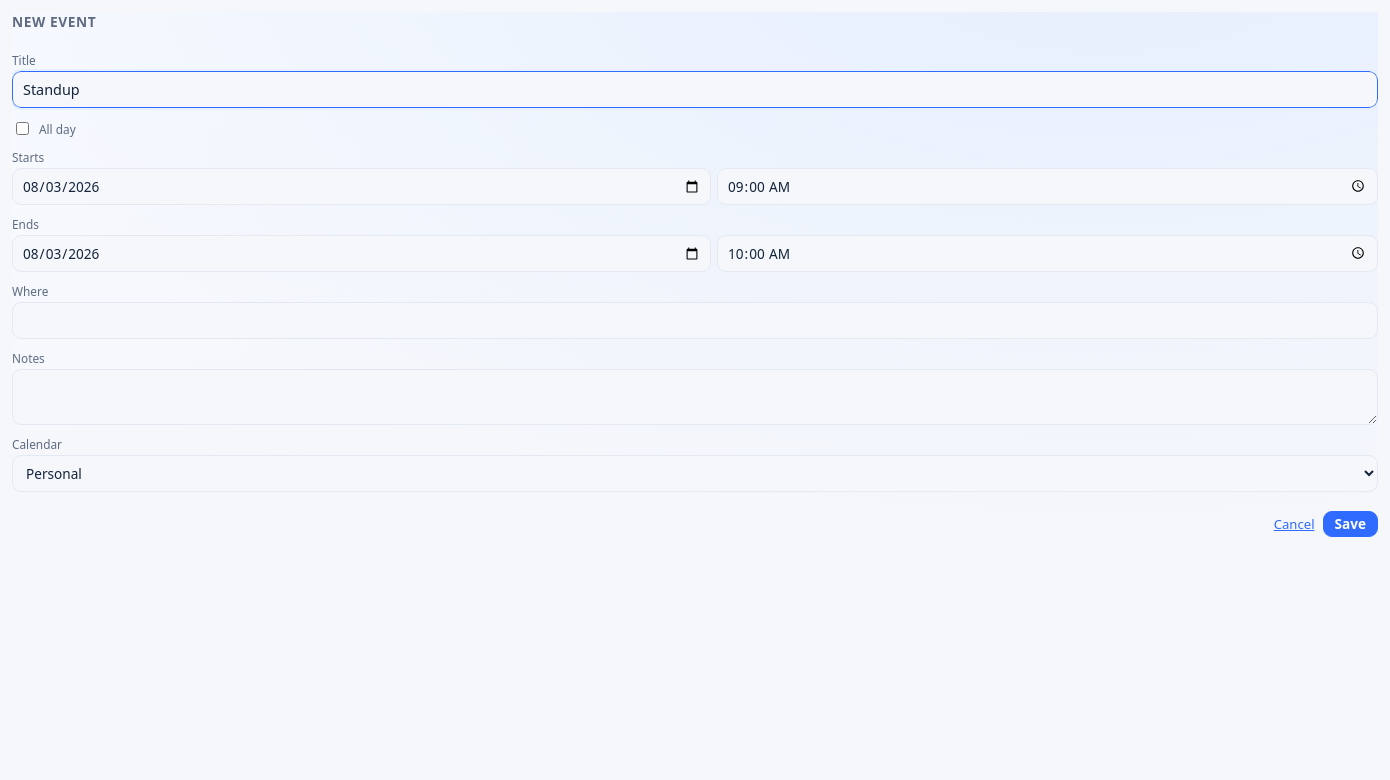
Test: EventForm fields › hides the time fields for an all-day event
Check: the time field named "Start time" is shown, box [717,168,1378,205]
Click the checkbox labelled "All day" at (22, 128), box [16,122,29,135]
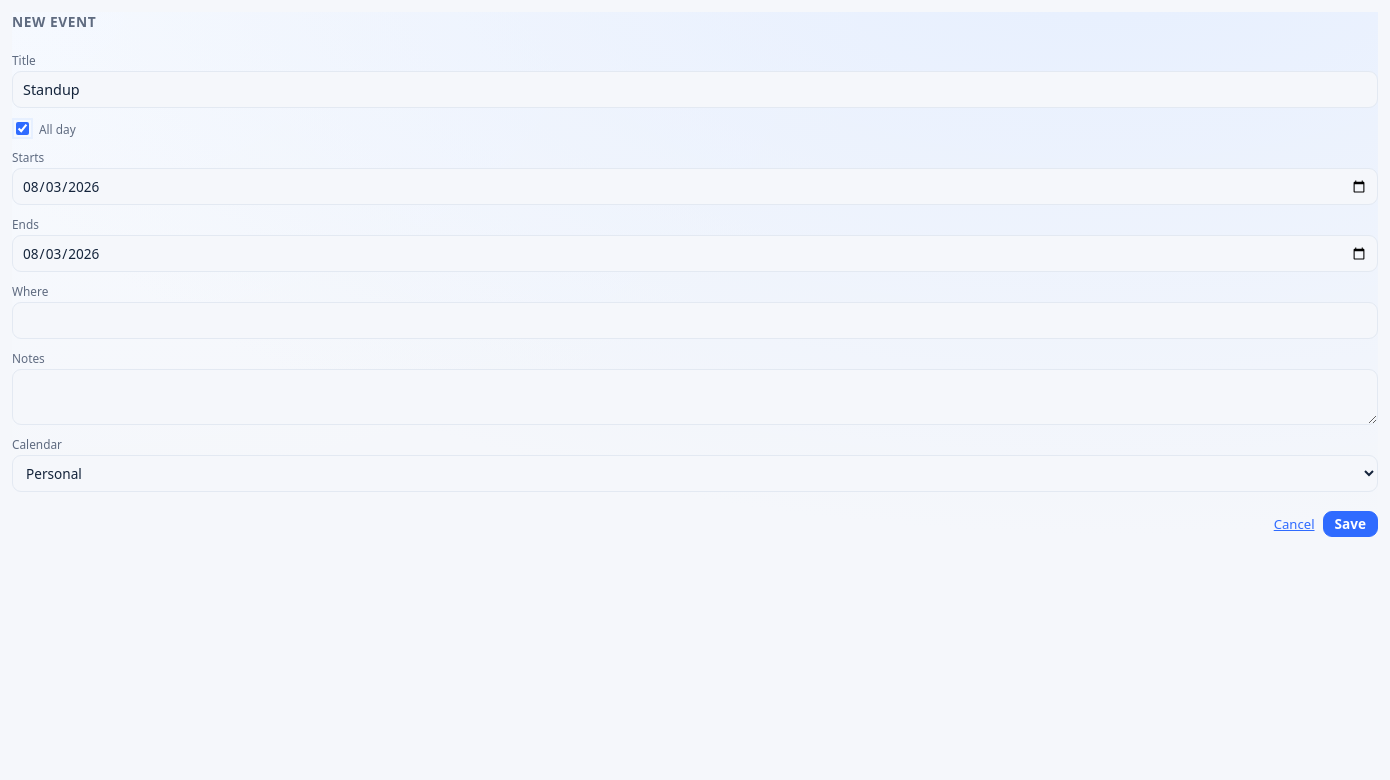
Check: the date field labelled "Starts" is shown, box [12,168,1378,205]
Check: the time field labelled "Start time" is gone
Check: the time field labelled "End time" is gone
